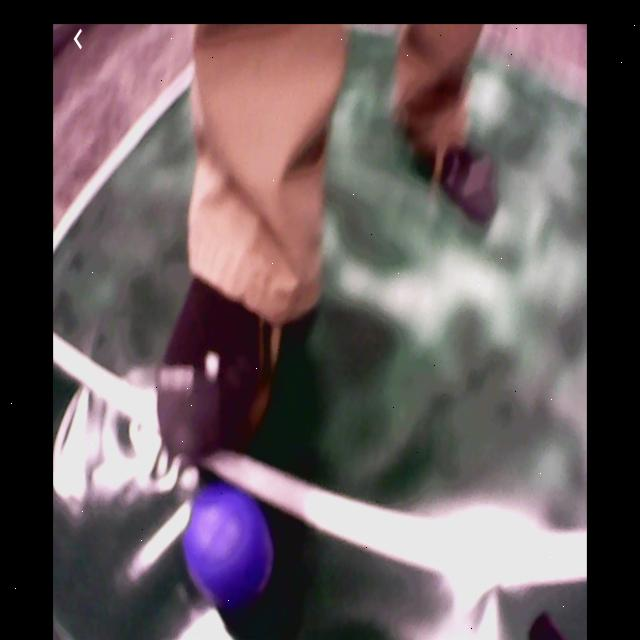ball: (192, 492, 270, 598)
